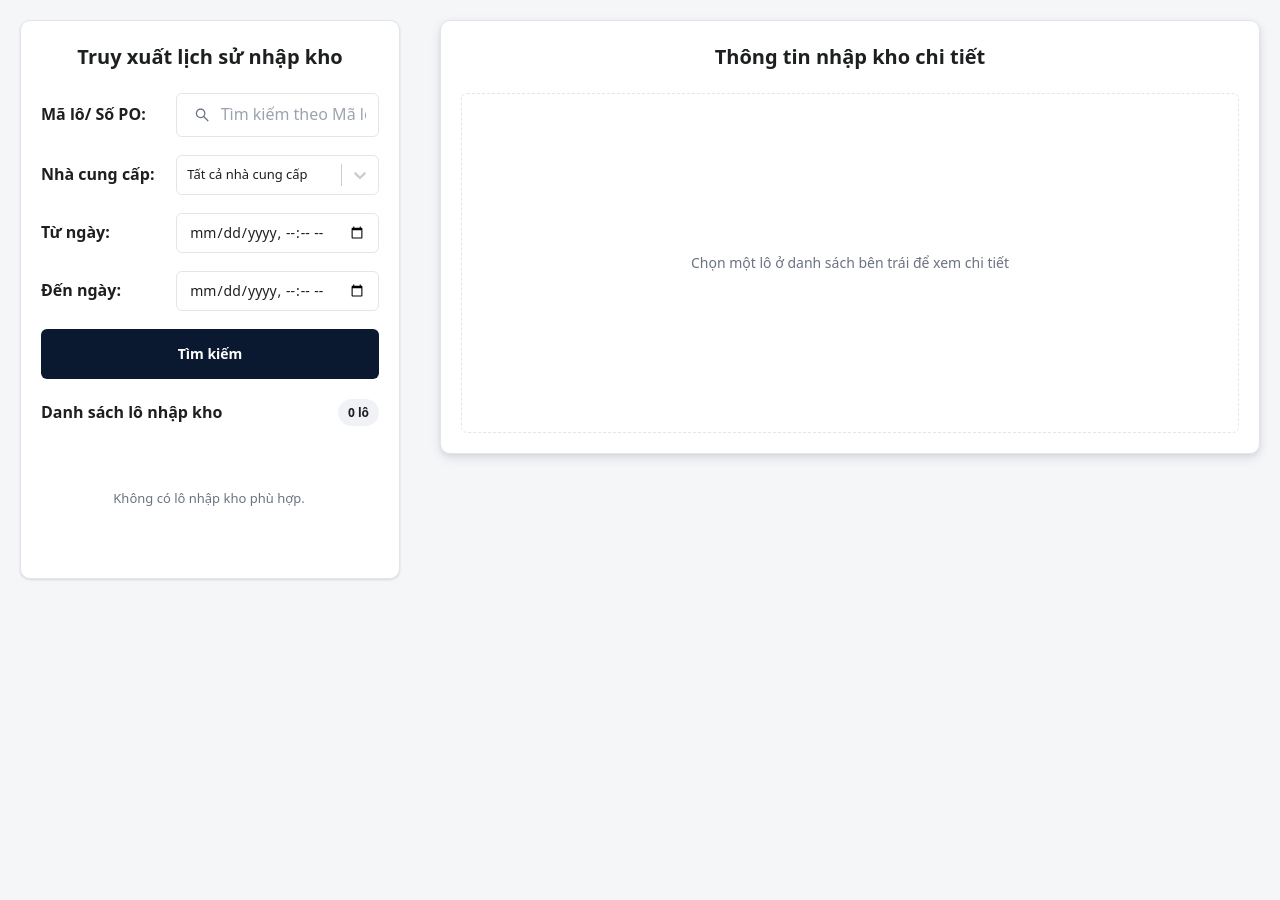
Test: ReceiptHistory - Xuất PDF › không cho xuất khi chưa nhập đơn giá cho dòng nào
Step 1. Type "LOT001" into the field with placeholder "Tìm kiếm theo Mã lô/ số PO" → (293, 115), box x1=221 y1=102 x2=366 y2=128
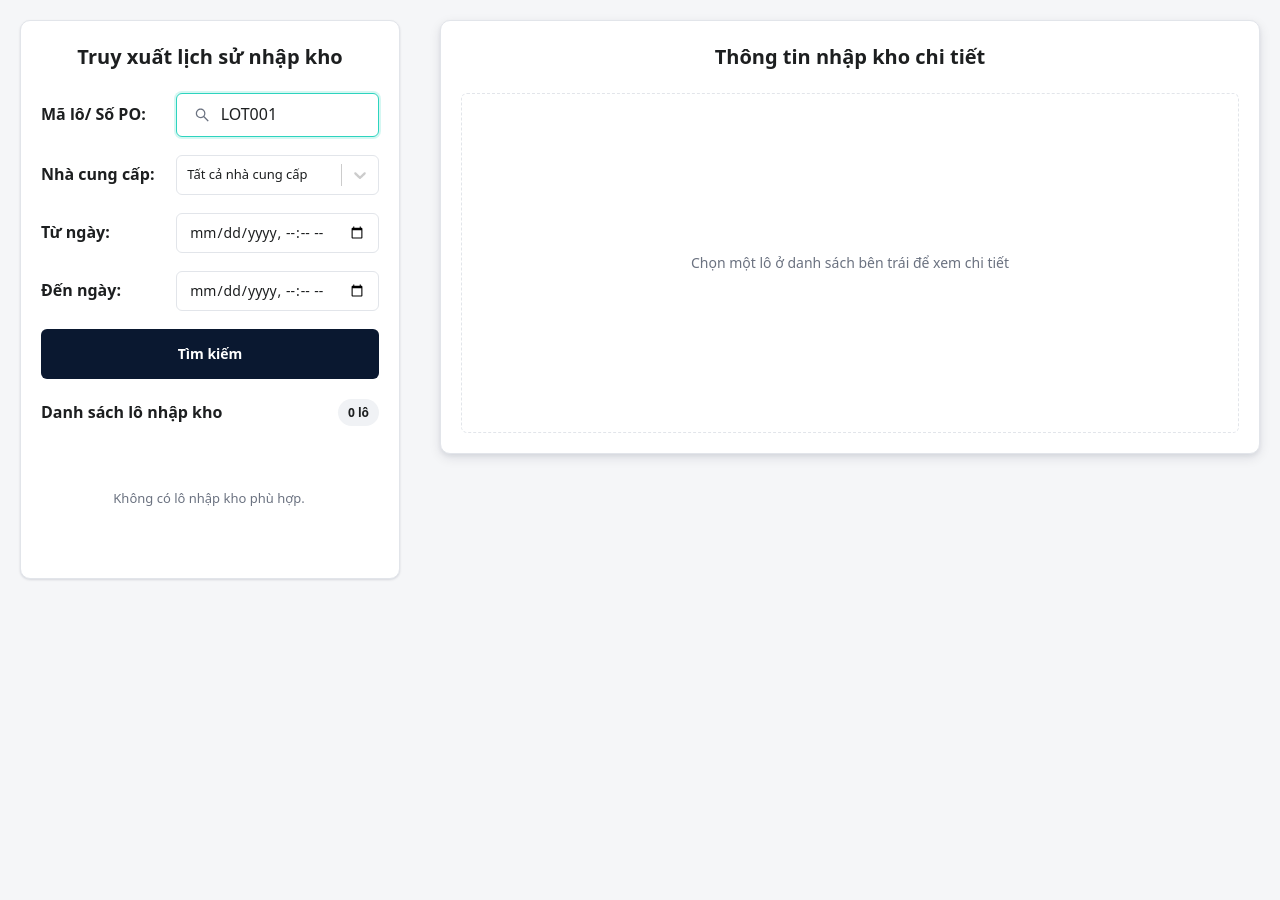
Step 2. Click the button "Tìm kiếm" → click(210, 354), box x1=41 y1=329 x2=379 y2=379
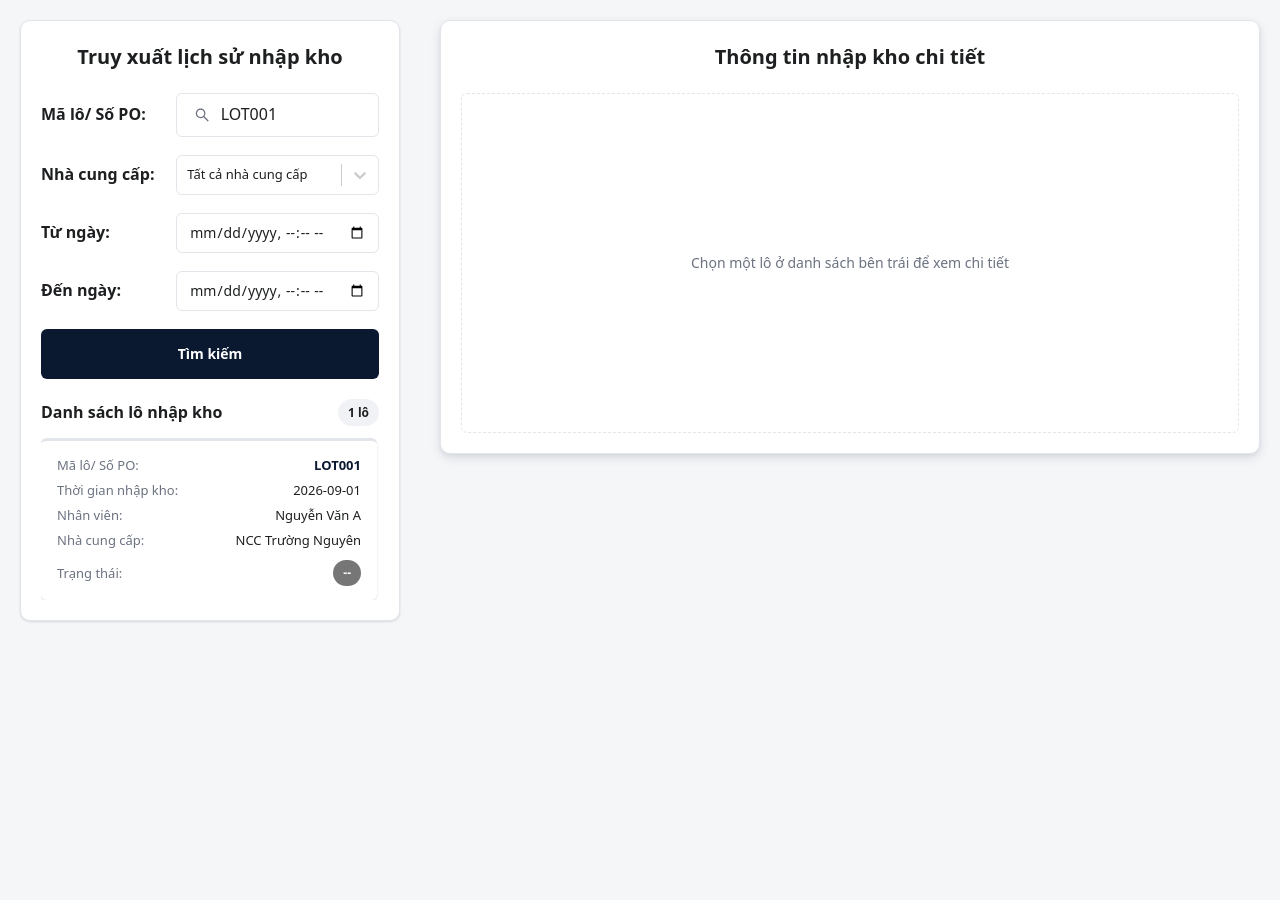
Expected: the text "LOT001" is shown
Step 3. Click the text "LOT001" → click(338, 465), box x1=314 y1=456 x2=361 y2=474
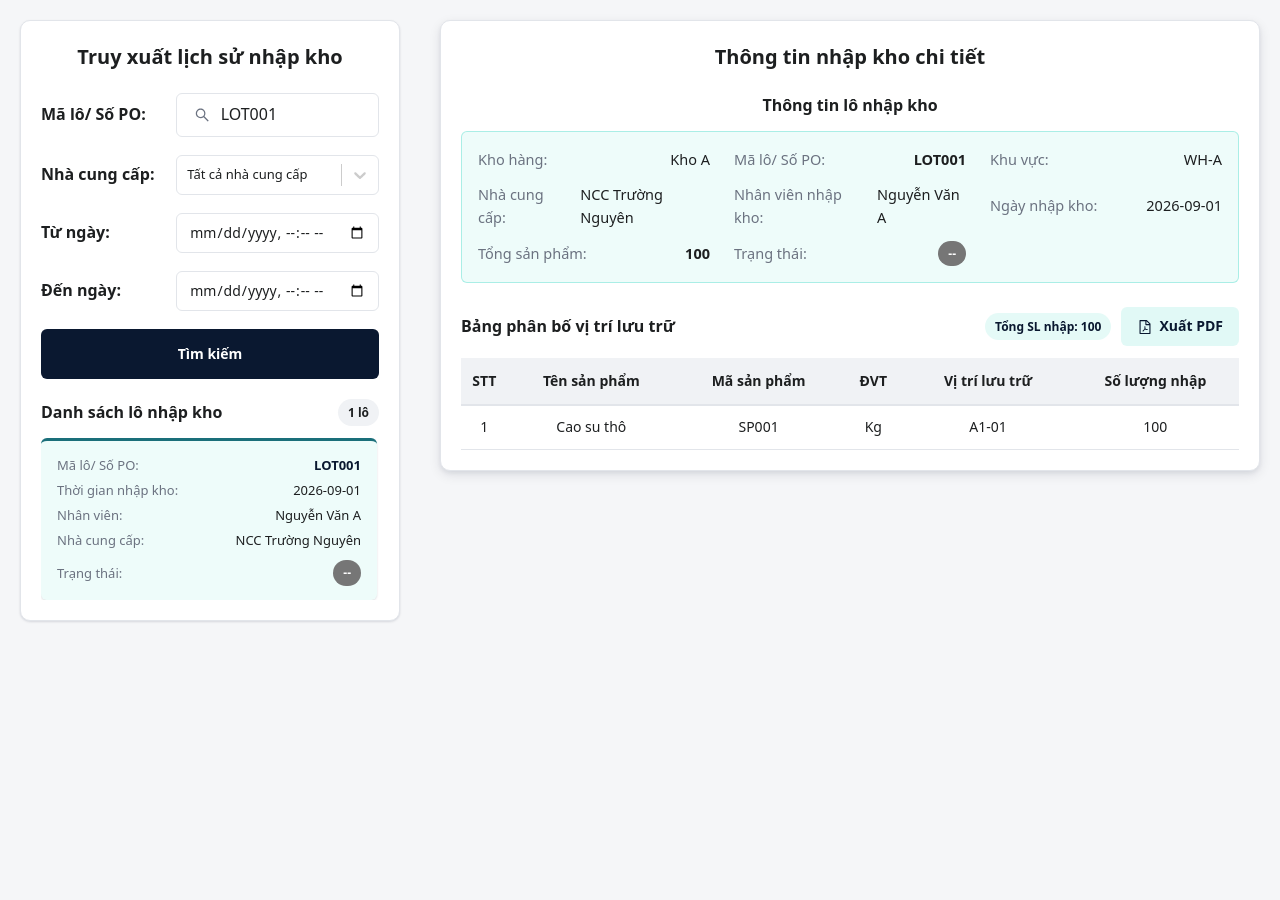
Expected: the text "Cao su thô" is shown, x1=508 y1=405 x2=675 y2=449
Step 4. Click the button "Xuất PDF" → click(1180, 326), box x1=1122 y1=307 x2=1239 y2=346
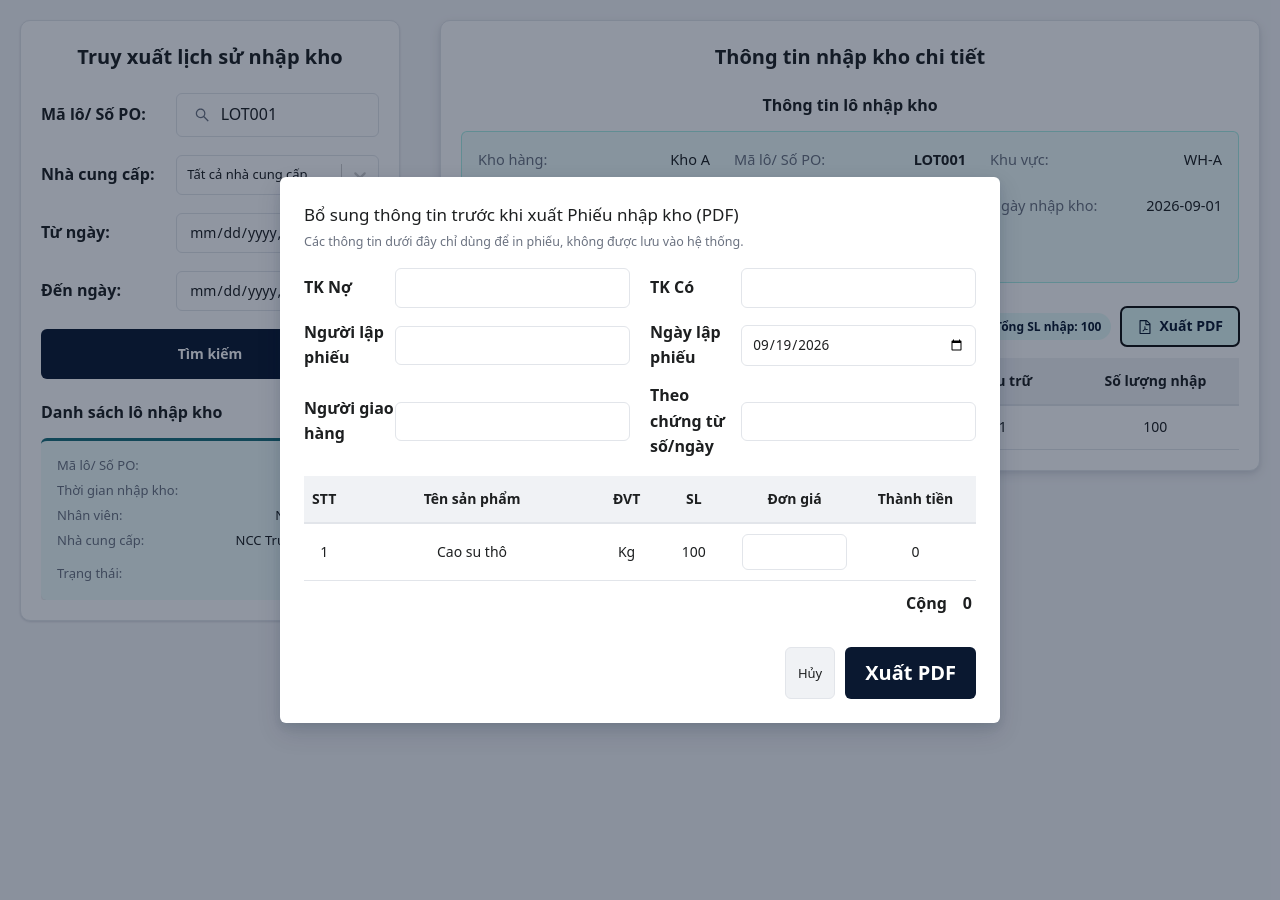
Step 5. Click the button "Xuất PDF" → click(911, 673), box x1=845 y1=647 x2=976 y2=699
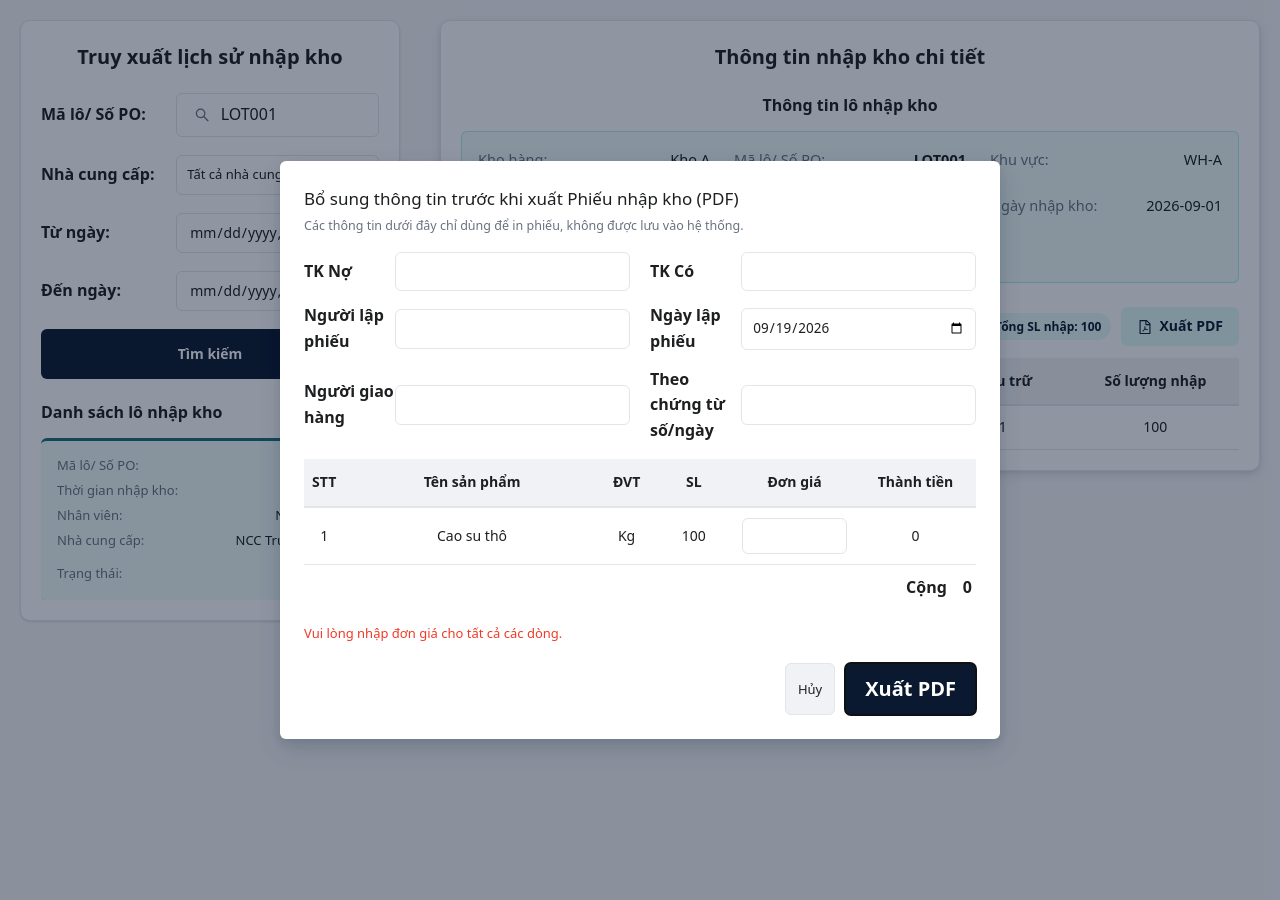
Expected: the text "Vui lòng nhập đơn giá cho tất cả các dòng." is shown, x1=304 y1=624 x2=562 y2=642
